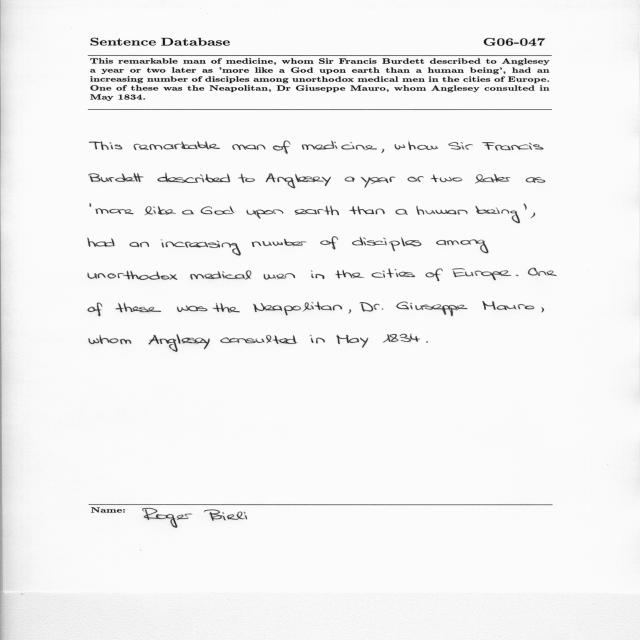word: (160, 240, 241, 256), (253, 302, 342, 316), (149, 334, 210, 352), (397, 302, 468, 317), (266, 173, 331, 188), (352, 237, 421, 251), (88, 271, 177, 280), (133, 141, 220, 150), (475, 206, 520, 223), (436, 240, 489, 254), (158, 173, 231, 183), (452, 268, 511, 280), (221, 335, 298, 344), (302, 141, 377, 150), (191, 270, 252, 280), (482, 142, 543, 151), (89, 173, 143, 182), (482, 301, 534, 310), (115, 303, 161, 313), (417, 206, 468, 215), (295, 206, 339, 216), (252, 239, 306, 247), (372, 268, 415, 278), (337, 335, 369, 348), (361, 177, 396, 188), (89, 335, 131, 344), (247, 209, 284, 219), (394, 142, 438, 150), (383, 334, 420, 343), (475, 174, 511, 183), (201, 206, 235, 215), (90, 141, 123, 150), (349, 206, 385, 214), (212, 303, 240, 313), (145, 206, 176, 215), (88, 237, 114, 247), (431, 174, 463, 182), (360, 302, 384, 312), (320, 237, 338, 250), (425, 269, 443, 282), (335, 270, 364, 278), (528, 268, 557, 276), (96, 209, 134, 215), (264, 273, 296, 280), (273, 141, 290, 154), (177, 305, 208, 312), (88, 303, 103, 317), (448, 142, 473, 150), (232, 144, 265, 150), (238, 174, 255, 183), (129, 242, 149, 248), (310, 335, 325, 343), (311, 270, 324, 279), (526, 177, 545, 183), (407, 176, 424, 182), (395, 209, 408, 215), (345, 176, 355, 182), (182, 210, 194, 215), (531, 212, 535, 218), (524, 203, 527, 210), (541, 308, 544, 313), (381, 149, 384, 153), (348, 310, 351, 314), (90, 203, 91, 207), (426, 341, 428, 343), (516, 275, 519, 276)
